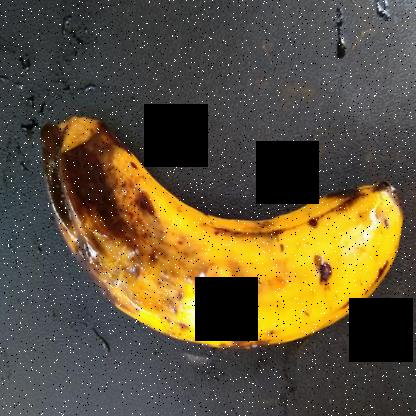overripe: (198, 146, 408, 379)
rotten: (10, 82, 229, 337)
